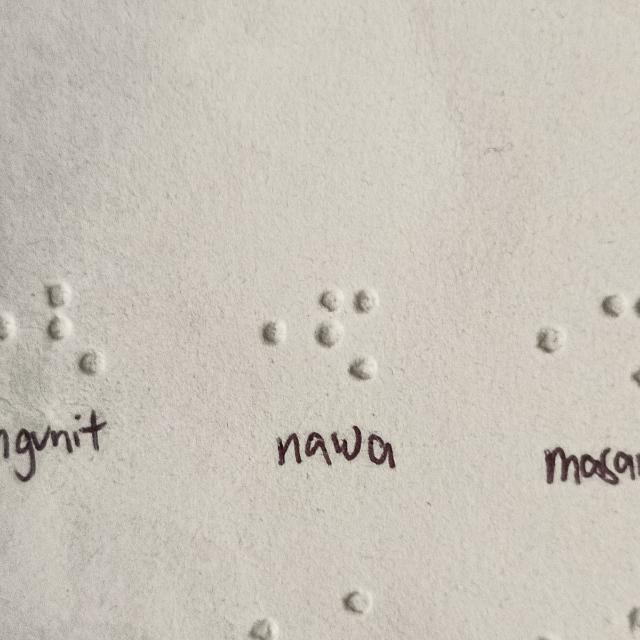dot_5: (219, 287, 290, 383), (498, 291, 569, 386)
two_cell_non_alphabet_nawa: (312, 286, 383, 382)
two_cell_non_alphabet_ngunit: (43, 282, 114, 378)
